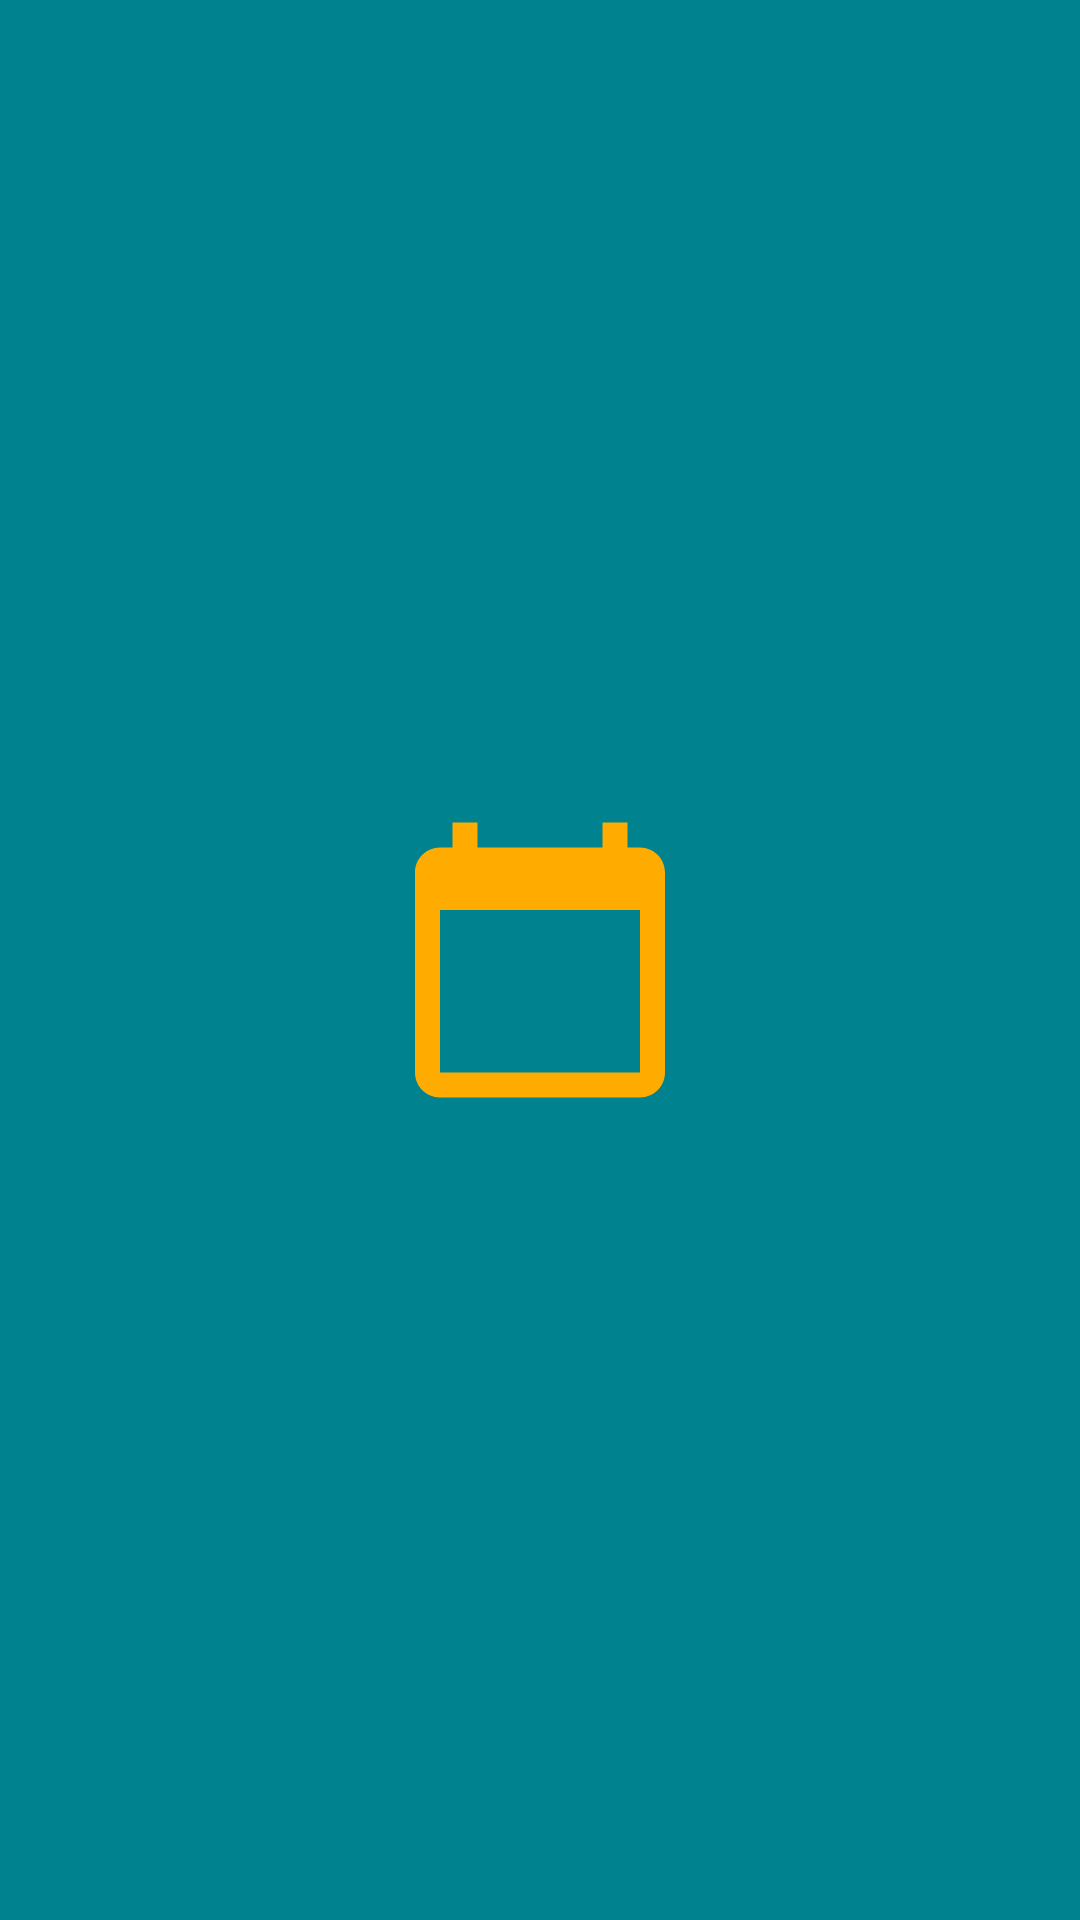

Screen size 1080 x 1920. Icon name, then its center in pixels as point (x, y):
calendar: point (540, 960)
